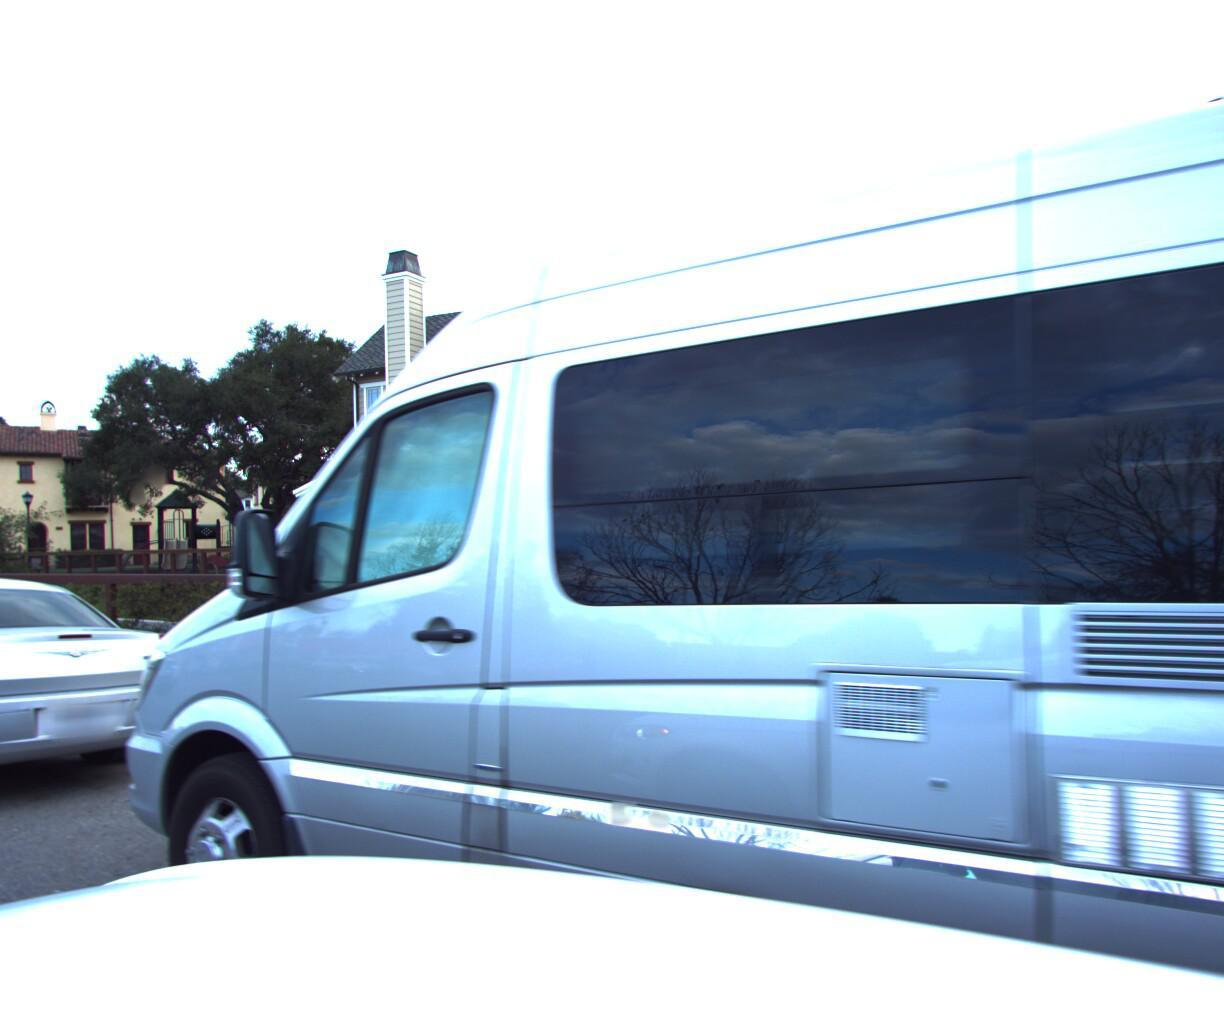car: (0, 562, 208, 872)
truck: (4, 0, 1224, 1024)
